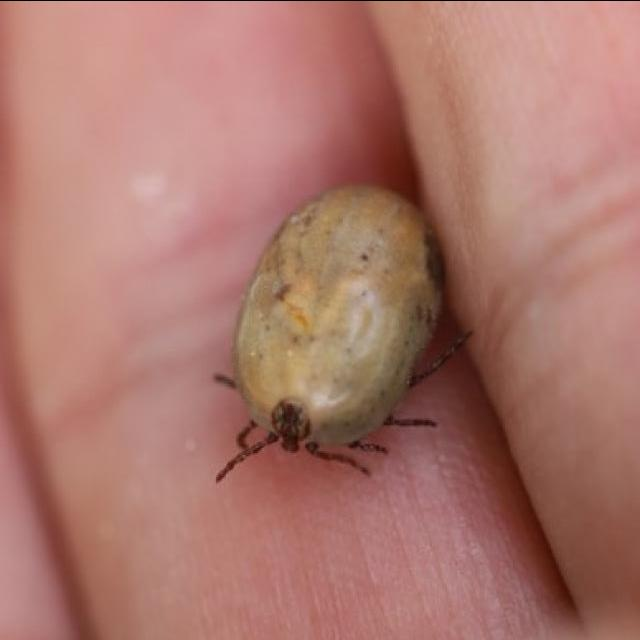Dermacentor Reticulatus-F-Fed: (213, 185, 475, 485)
